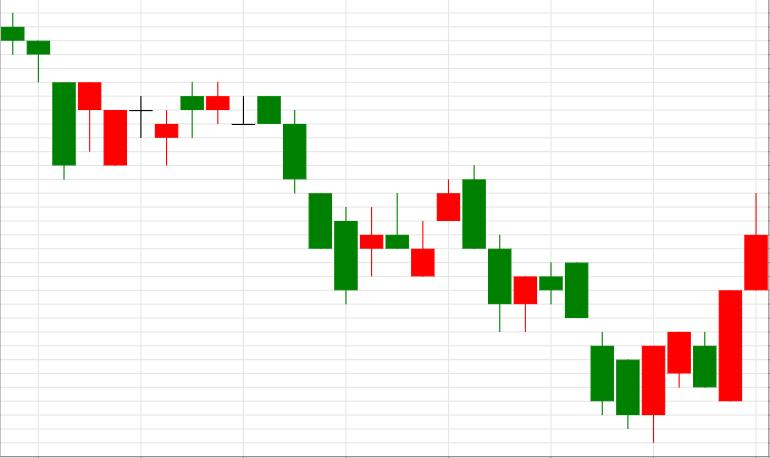bullish_engulfing_rise: (462, 165, 666, 443)
